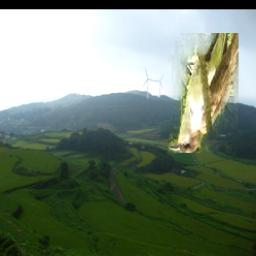Cuckoo: (169, 33, 239, 153)
